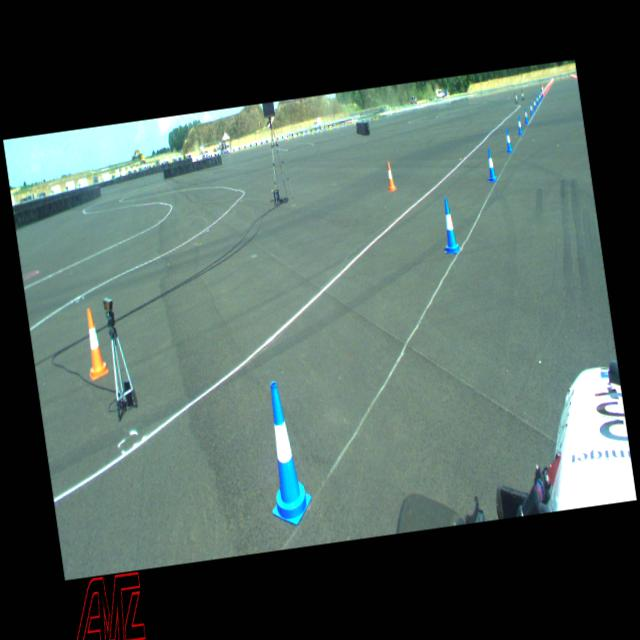blue_cone: (254, 379, 314, 527), (438, 197, 461, 254), (484, 148, 498, 182), (504, 128, 513, 153), (516, 116, 524, 134), (523, 108, 529, 124), (528, 102, 534, 116), (532, 98, 536, 110), (536, 94, 539, 106), (538, 92, 542, 101), (540, 90, 544, 99)
large_orange_cone: (541, 84, 545, 98)
orange_cone: (80, 307, 110, 380), (385, 162, 397, 192)
